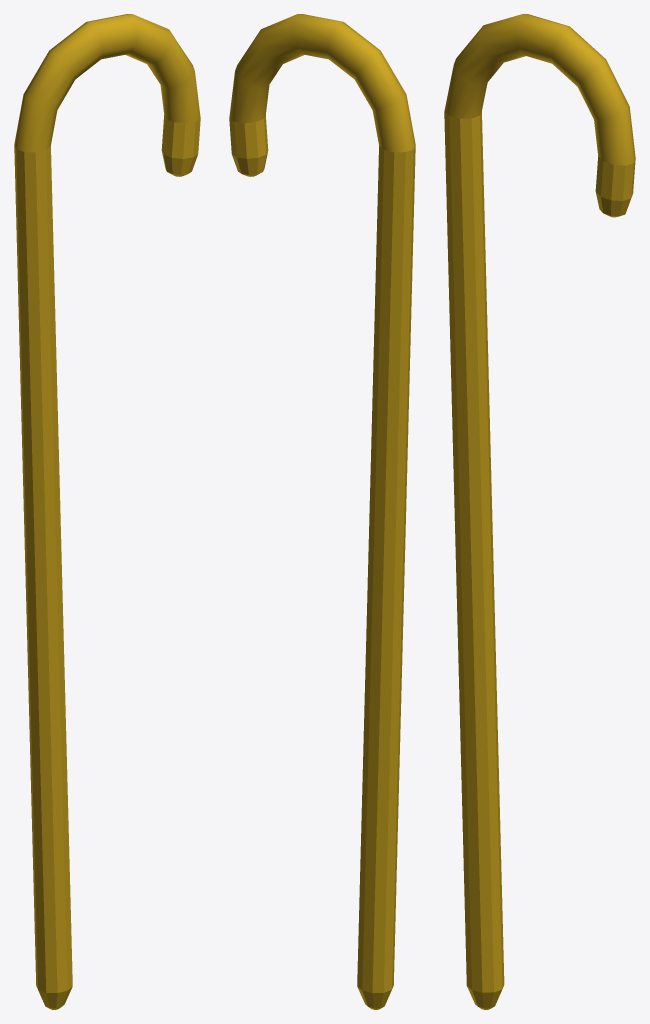
File: baston.FBX
3 views of the same model, side by side, from view 1: azimuth 30°, elevation 25°; view 2: azimuth 150°, elevation 25°; view 3: azimuth 330°, elevation 25° (orthographic). The views are drawn at different scales.
Visible parts, largest first — view 1: Baston; view 2: Baston; view 3: Baston.
Boxes of the visible parts, left/top/right/bottom form: Baston: left=14, top=14, right=200, bottom=1009; Baston: left=229, top=14, right=415, bottom=1009; Baston: left=444, top=14, right=635, bottom=1009.
Bounding box in the file's own units: 77.89 × 398 × 11.99.
